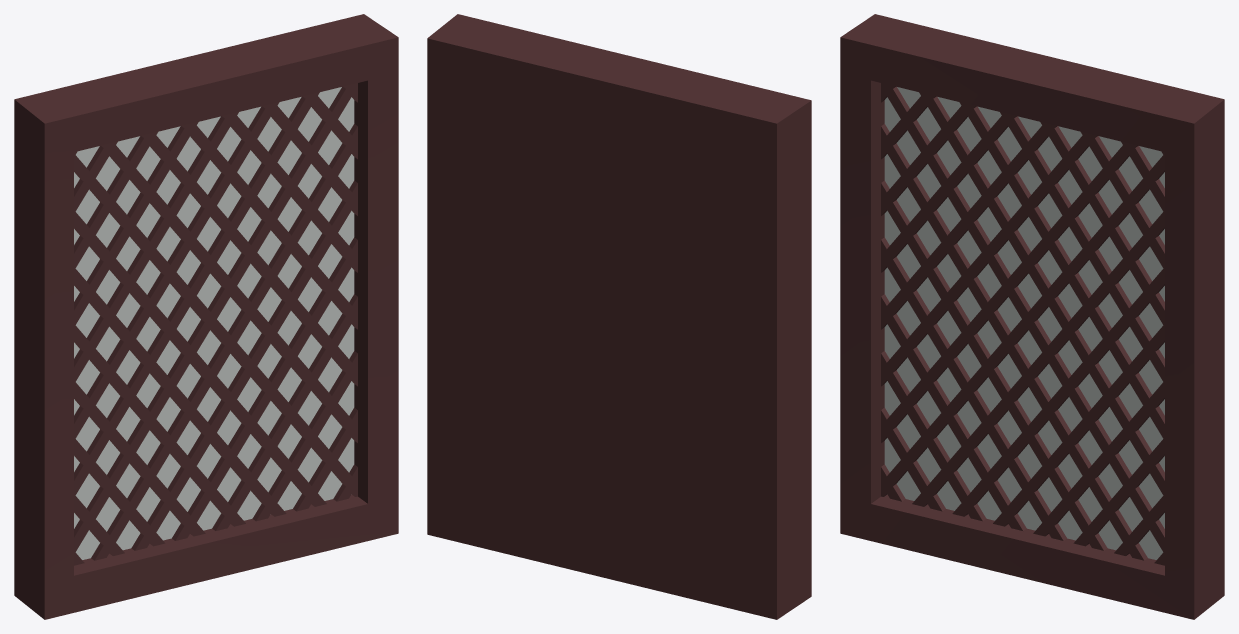
File: SM_Env_Door_30.fbx
The picture shows the model from 3 angles, left to right: view 1: azimuth 30°, elevation 25°; view 2: azimuth 150°, elevation 25°; view 3: azimuth 330°, elevation 25°; orthographic projection.
Parts seen in each view (by area): view 1: SM_Env_Door_30; view 2: SM_Env_Door_30; view 3: SM_Env_Door_30.
Boxes of the visible parts, <box> form: SM_Env_Door_30: <box>14,14,398,619</box>; SM_Env_Door_30: <box>427,14,811,619</box>; SM_Env_Door_30: <box>840,14,1224,619</box>.
Size of the model in its own units: 114 by 153 by 18.16.
Materials: 1 (1 with a texture image).
